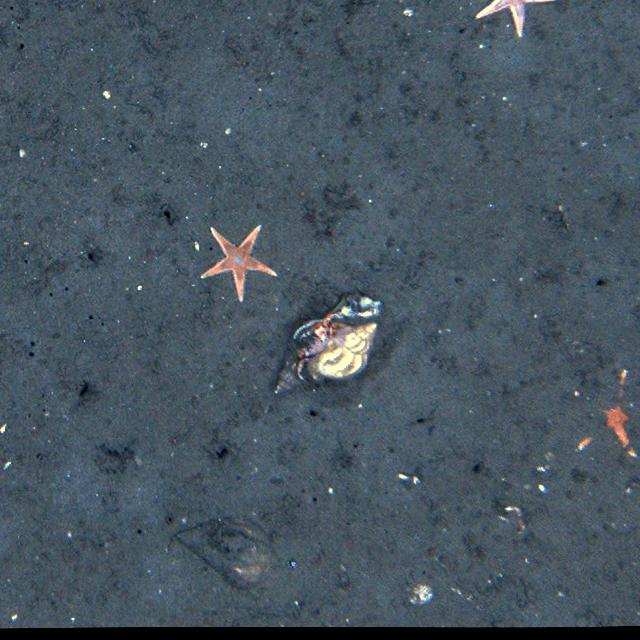crab: (291, 306, 350, 364)
